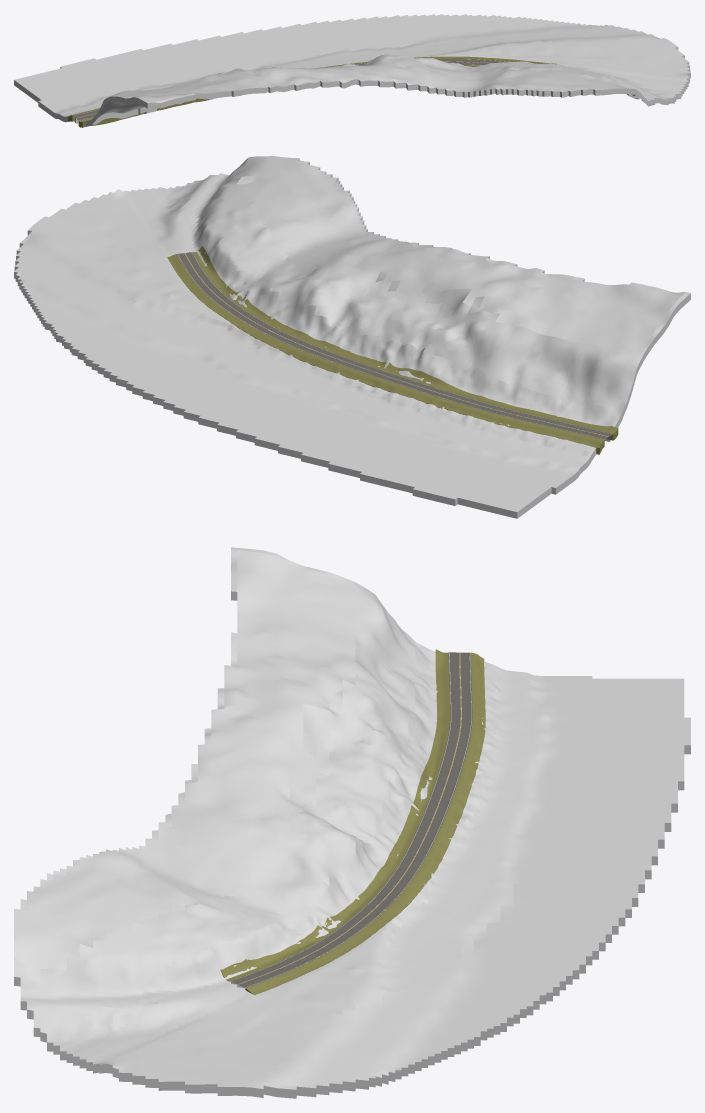
Rendered from conz_108.glb.
3 views of the same model, one above another, from view 1: azimuth 30°, elevation 25°; view 2: azimuth 150°, elevation 25°; view 3: azimuth 270°, elevation 25° (orthographic). The views are drawn at different scales.
Visible parts, largest first — view 1: terrain108, verge108R, road108, verge108L; view 2: terrain108, road108, verge108R, verge108L; view 3: terrain108, road108, verge108R, verge108L.
Part boxes in pixels (<box>): terrain108: <box>14,14,690,127</box>; verge108R: <box>68,56,556,121</box>; road108: <box>72,59,511,120</box>; verge108L: <box>78,64,479,127</box>; terrain108: <box>14,156,690,518</box>; road108: <box>177,252,612,439</box>; verge108R: <box>167,254,604,454</box>; verge108L: <box>193,246,618,440</box>; terrain108: <box>14,547,690,1098</box>; road108: <box>230,652,472,987</box>; verge108R: <box>245,652,485,994</box>; verge108L: <box>220,649,450,986</box>.
Bounding box in the file's own units: 308 × 46.21 × 206.
